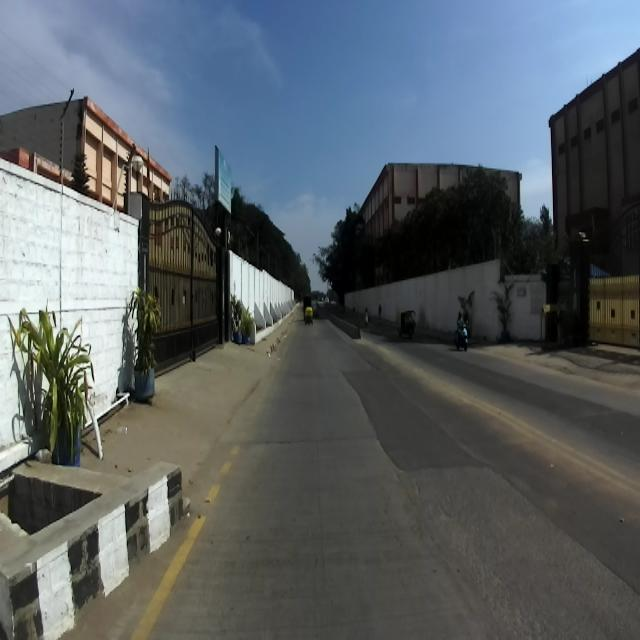gate ahead at: (138, 198, 230, 366)
plant ahead at: (11, 310, 106, 482), (120, 288, 168, 426)
